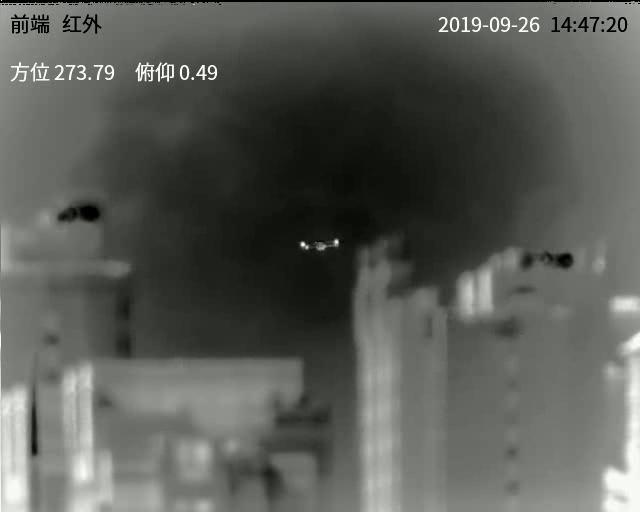DRONE: (299, 237, 340, 252)
